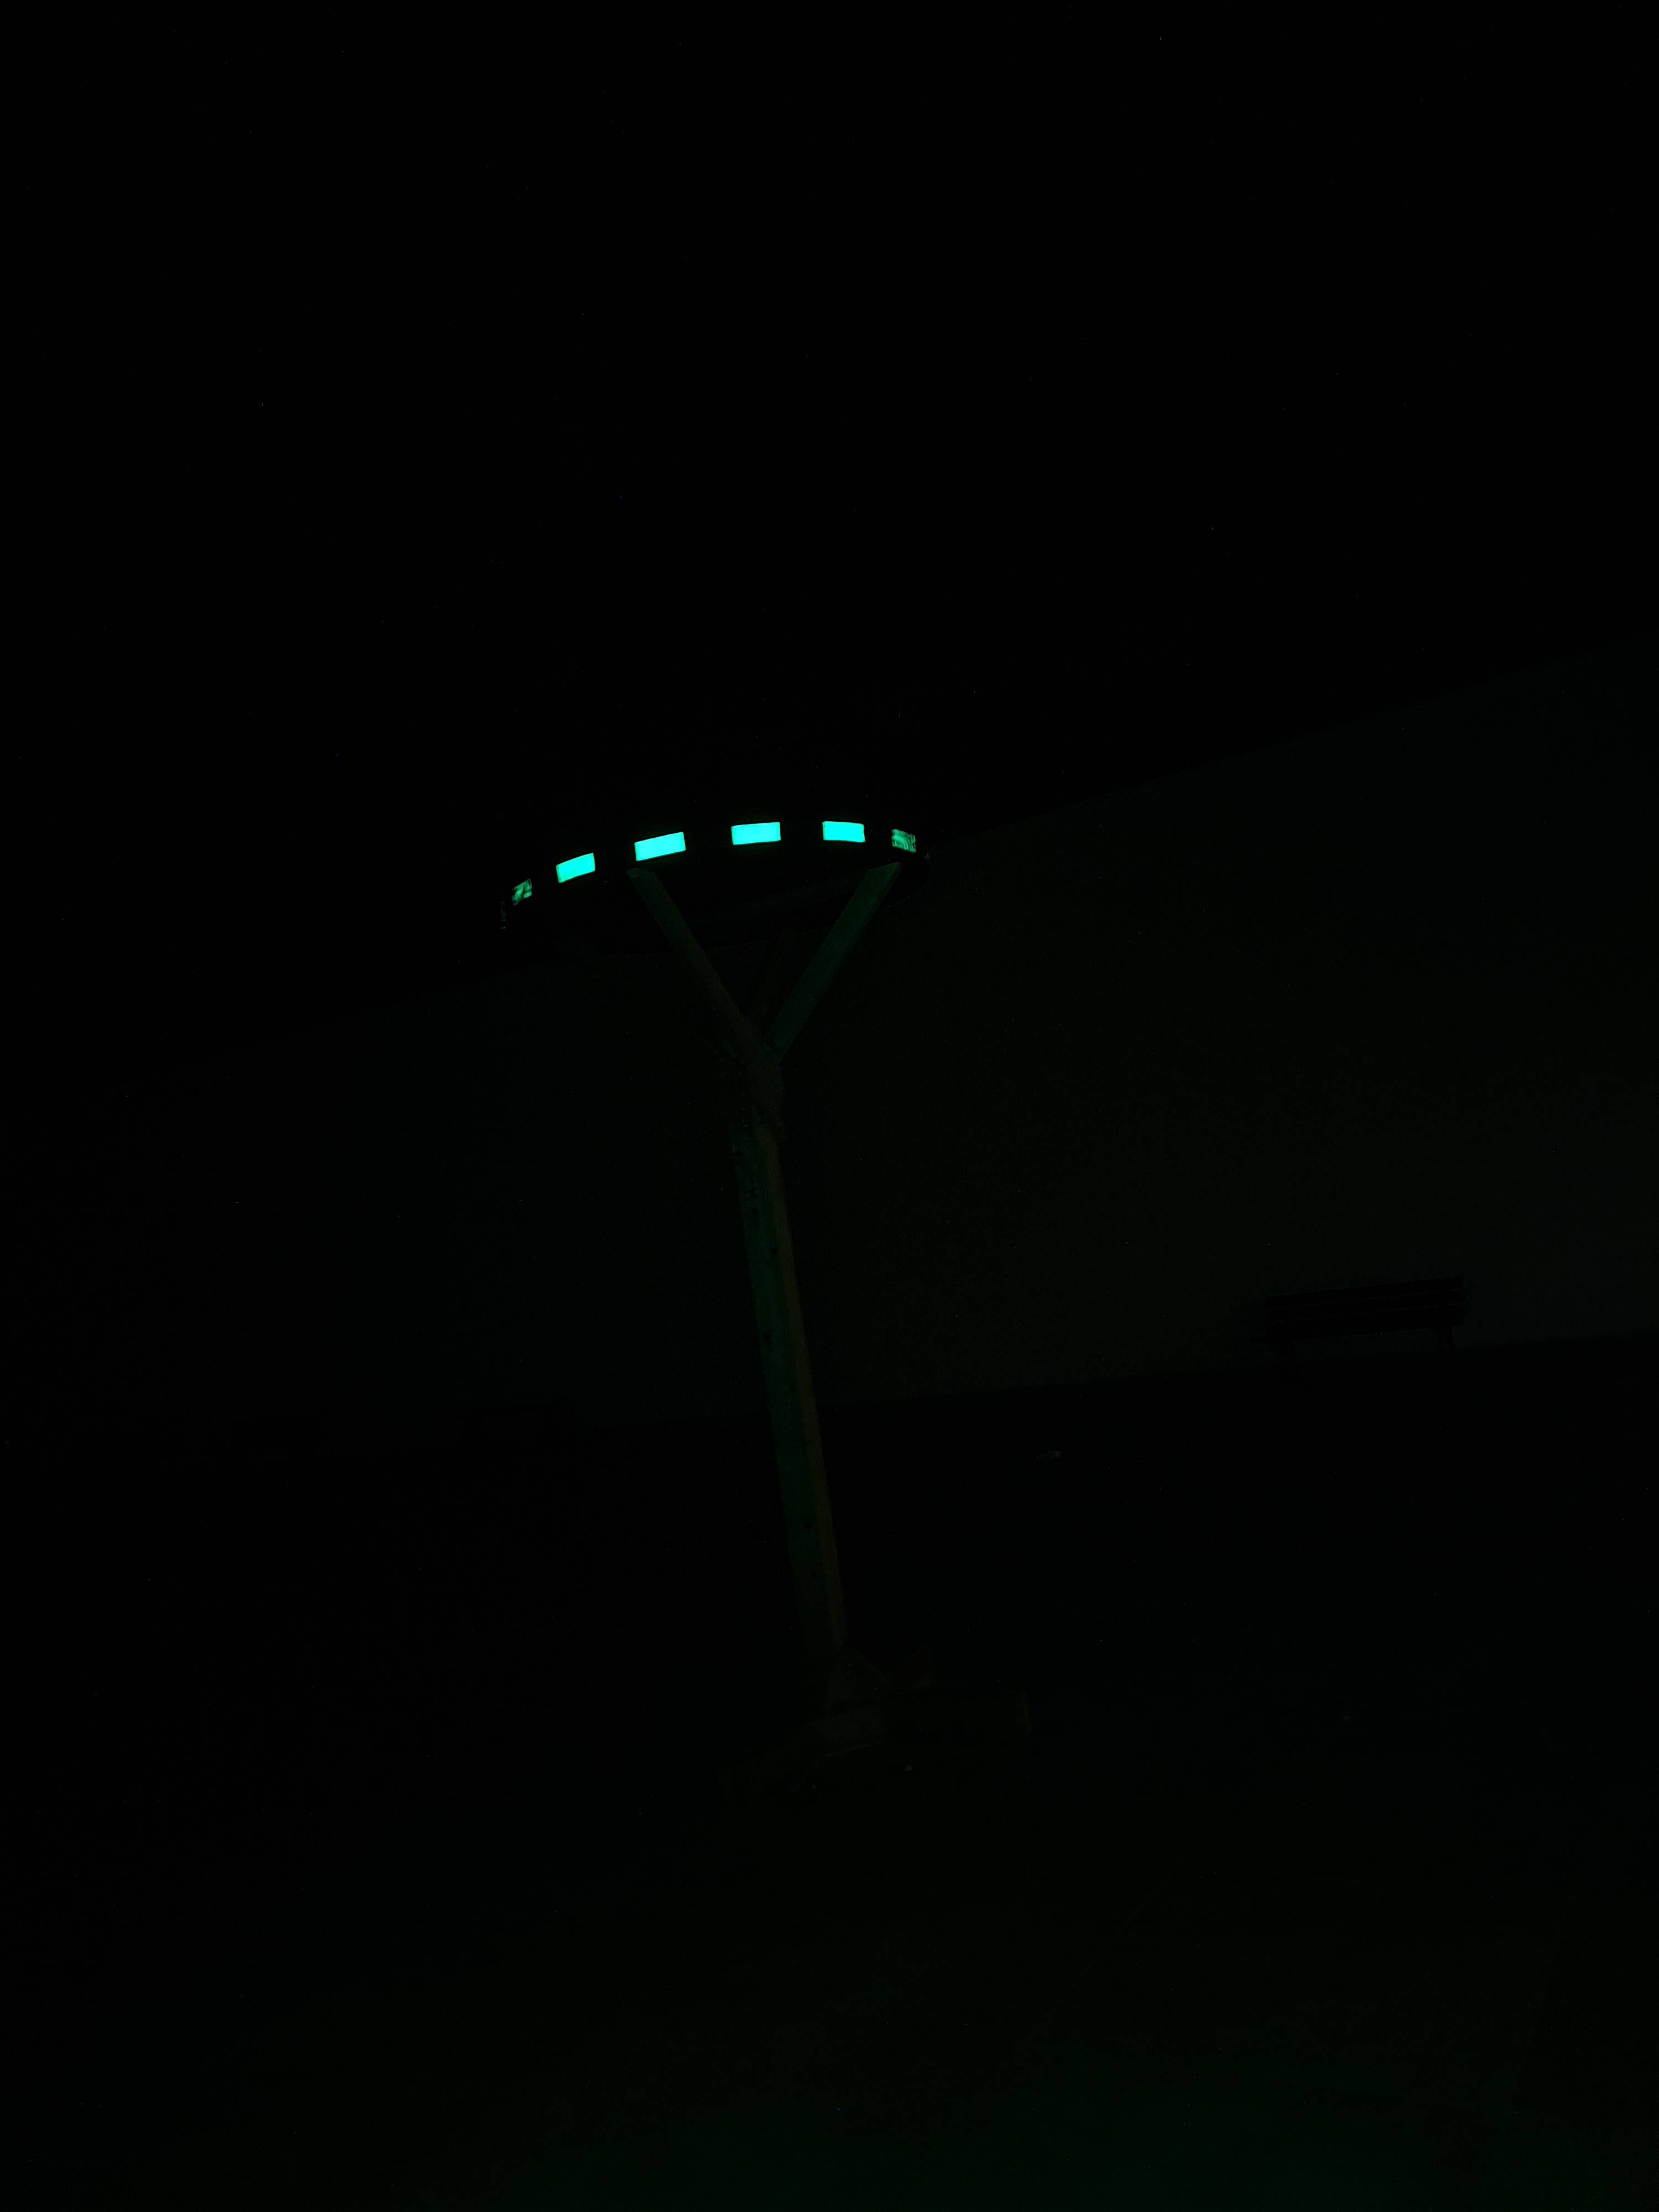hoop: (509, 817, 922, 907)
